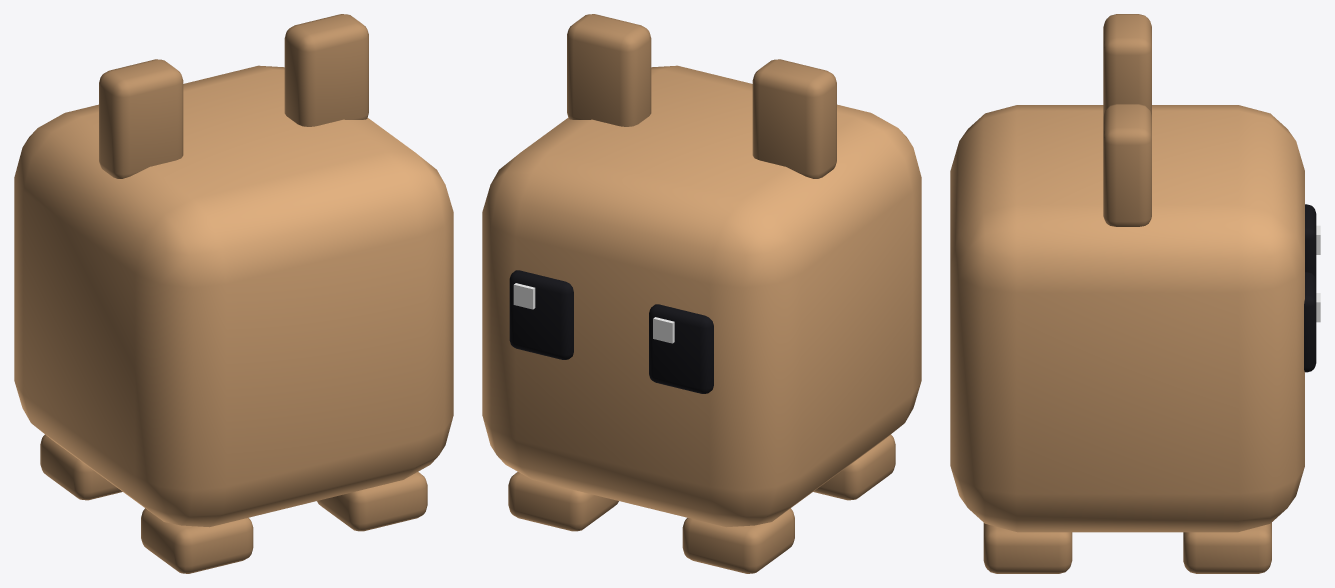
The model's file is Pet.fbx.
The picture shows the model from 3 angles, left to right: view 1: azimuth 30°, elevation 25°; view 2: azimuth 150°, elevation 25°; view 3: azimuth 270°, elevation 25°; orthographic projection.
Visible parts, largest first — view 1: Body, Ear, Foot; view 2: Body, Ear, Foot, Eye, Shine; view 3: Body, Ear, Foot, Eye.
Part boxes in pixels (left/top/right/bottom): Body: left=14, top=65, right=453, bottom=527; Ear: left=99, top=14, right=368, bottom=178; Foot: left=40, top=434, right=427, bottom=573; Body: left=482, top=65, right=921, bottom=527; Ear: left=567, top=14, right=836, bottom=178; Foot: left=508, top=434, right=895, bottom=573; Eye: left=509, top=270, right=713, bottom=393; Shine: left=513, top=283, right=674, bottom=343; Body: left=950, top=105, right=1304, bottom=532; Ear: left=1103, top=14, right=1151, bottom=226; Foot: left=983, top=522, right=1271, bottom=573; Eye: left=1304, top=204, right=1316, bottom=372.
Size of the model in its own units: 160 by 222 by 167.
